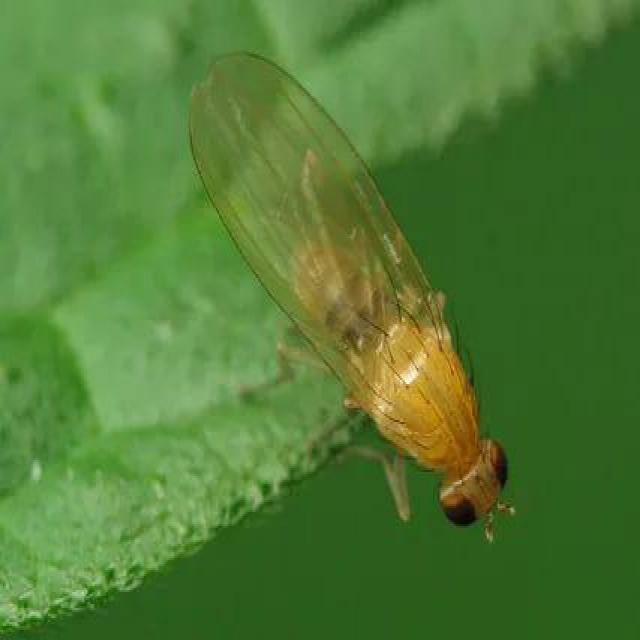aphid: (182, 55, 528, 567)
